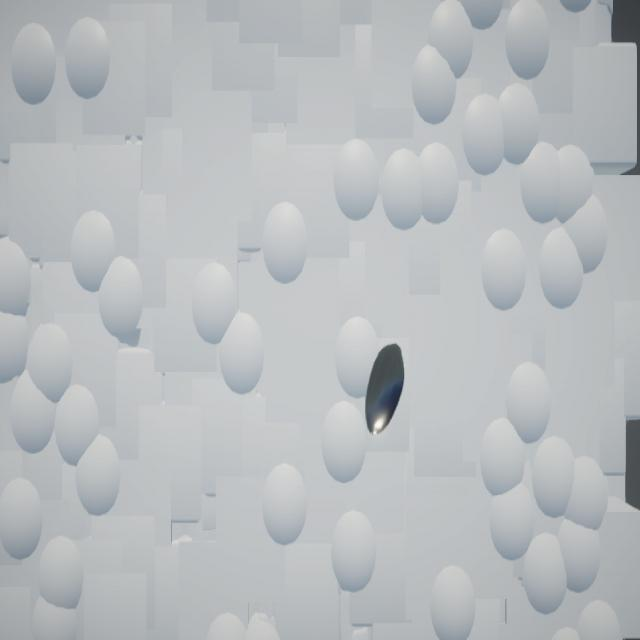top_spoon: (366, 344, 406, 436)
